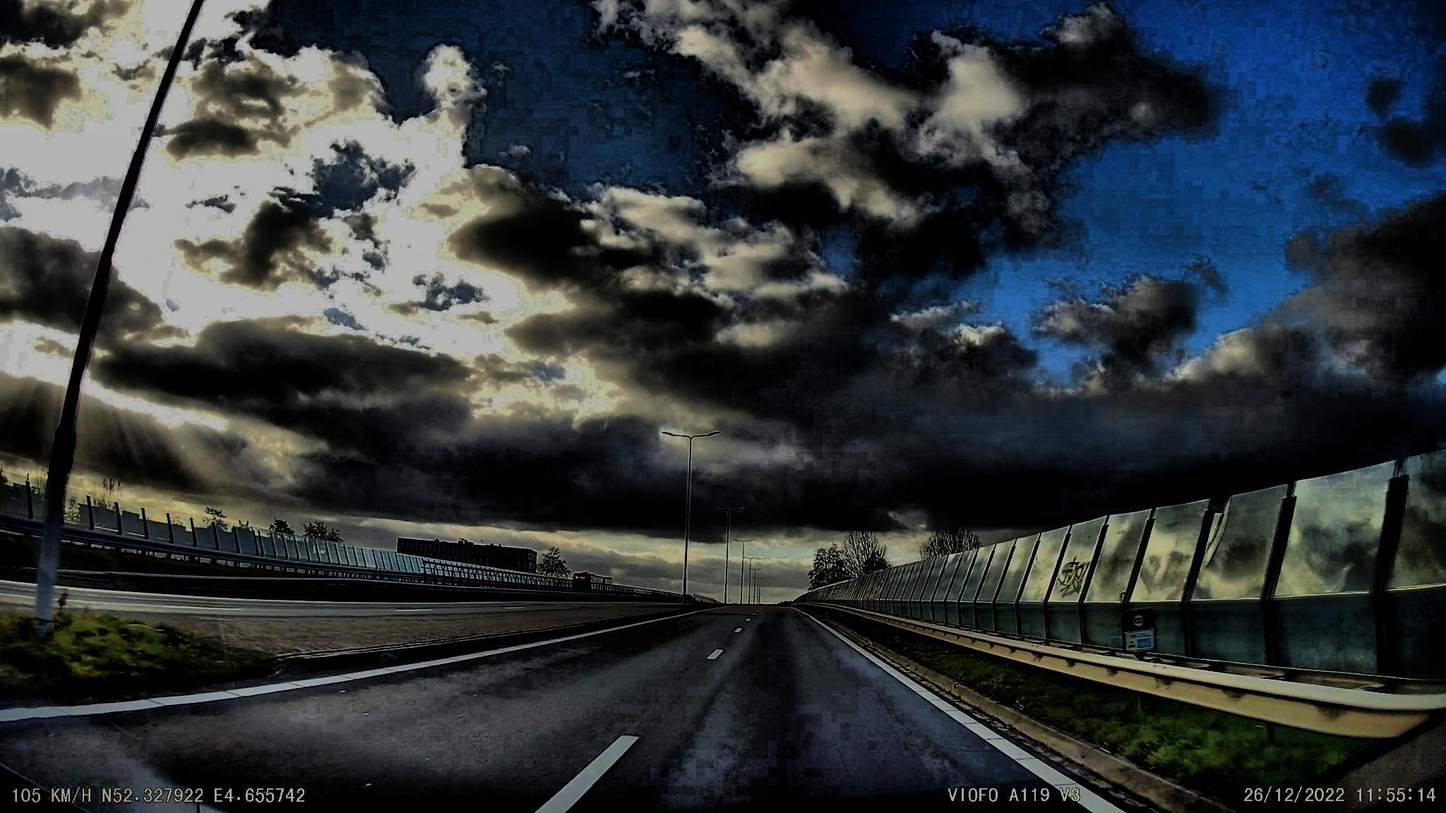Roads: (0, 606, 1239, 813)
